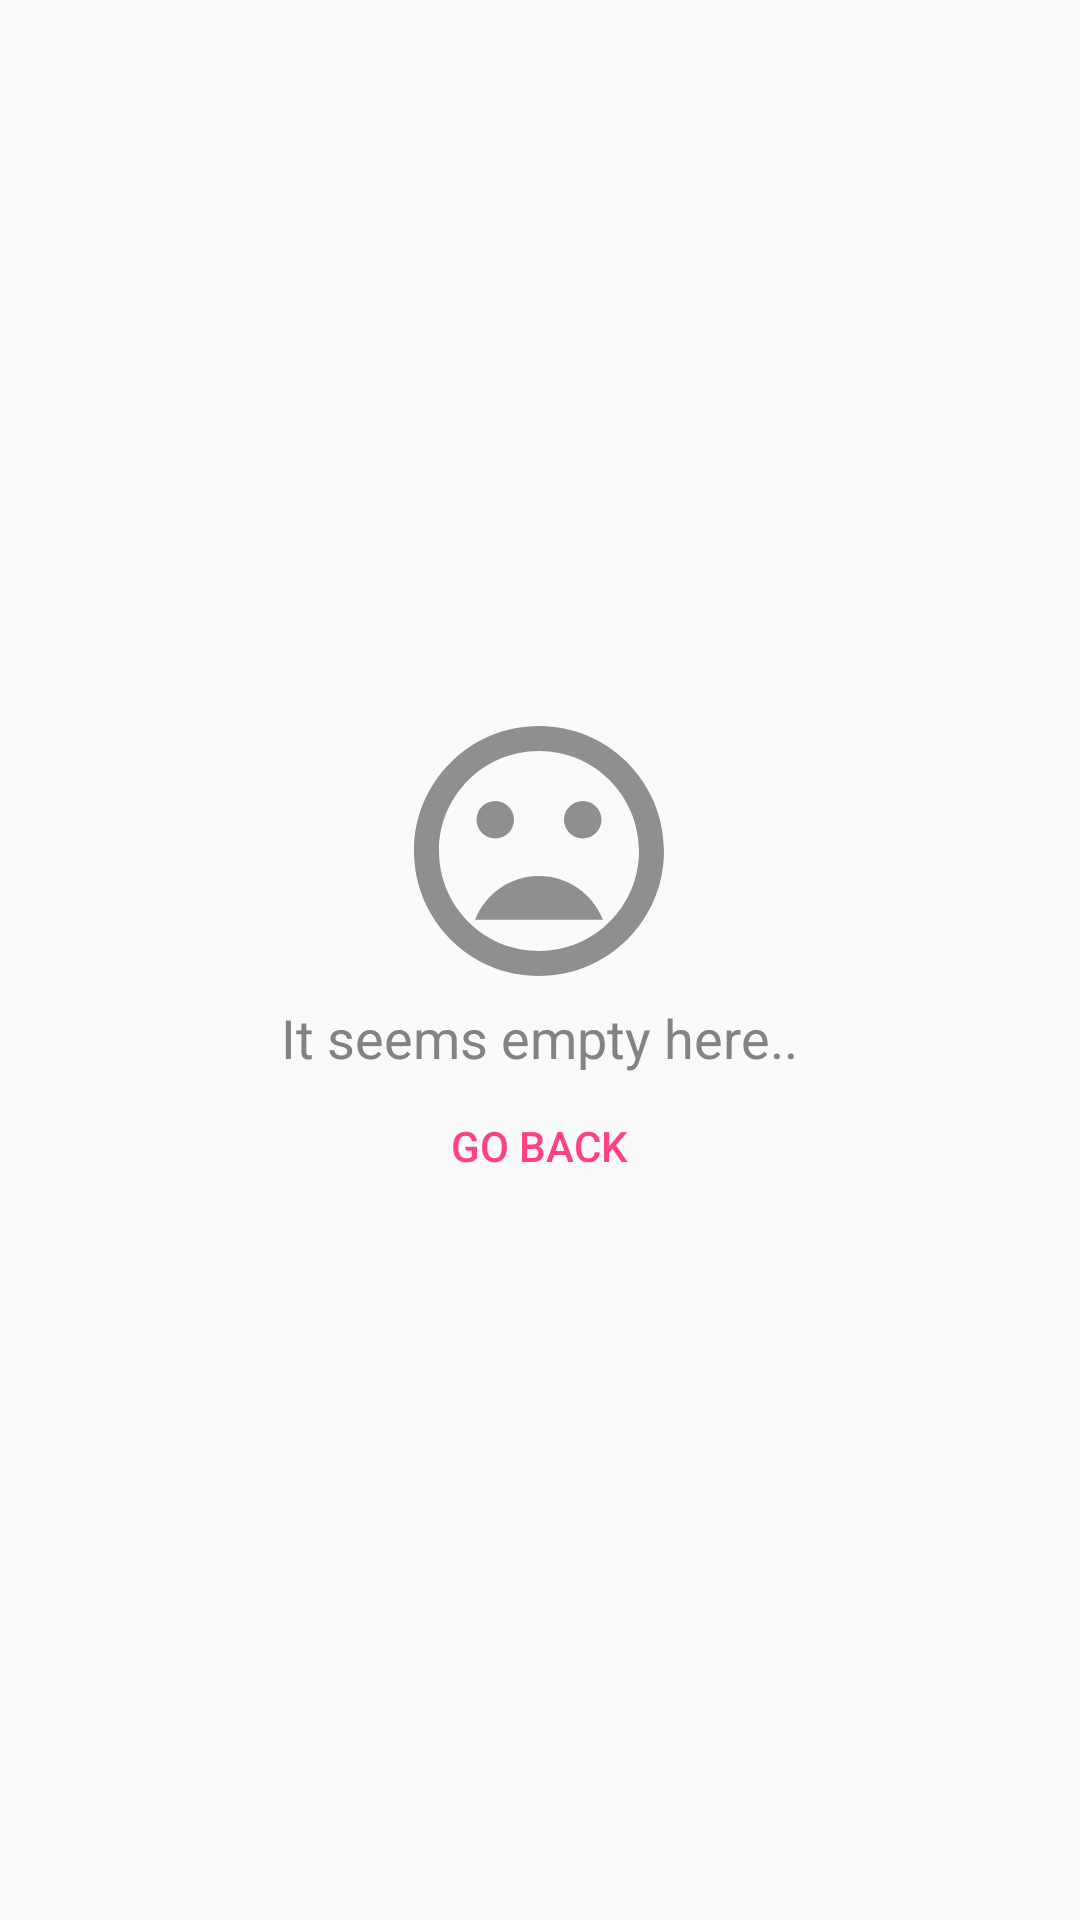

Screen size 1080px x 1920px. Icon name, then its center in pixels as [x,y]:
mood bad: [539,851]
